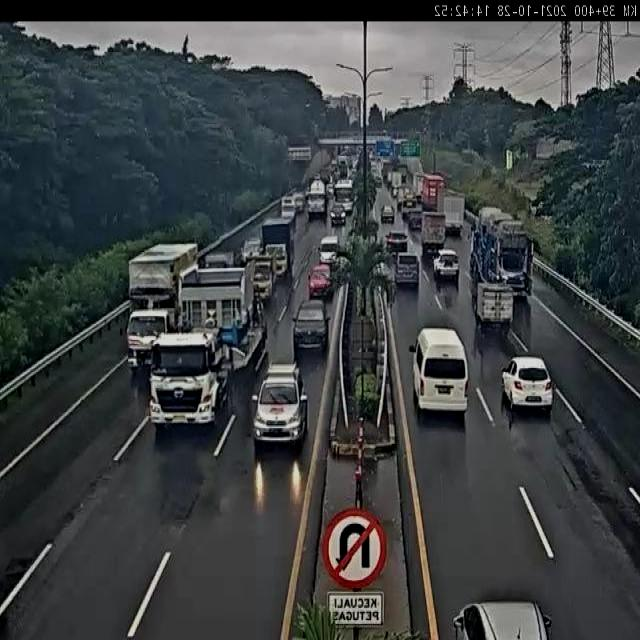Bus: (334, 178, 354, 214)
Car: (252, 362, 310, 448), (501, 354, 554, 411), (292, 300, 328, 354), (308, 264, 334, 301), (433, 249, 459, 281), (385, 230, 409, 254), (329, 205, 346, 226), (381, 205, 394, 222)
Truck: (147, 255, 265, 430), (124, 238, 197, 374), (471, 208, 535, 302), (262, 216, 298, 278), (420, 211, 447, 259), (440, 192, 464, 238), (419, 173, 445, 213), (394, 250, 419, 286), (306, 179, 326, 218), (405, 208, 423, 232), (281, 195, 297, 219)
Van: (411, 327, 469, 413)
